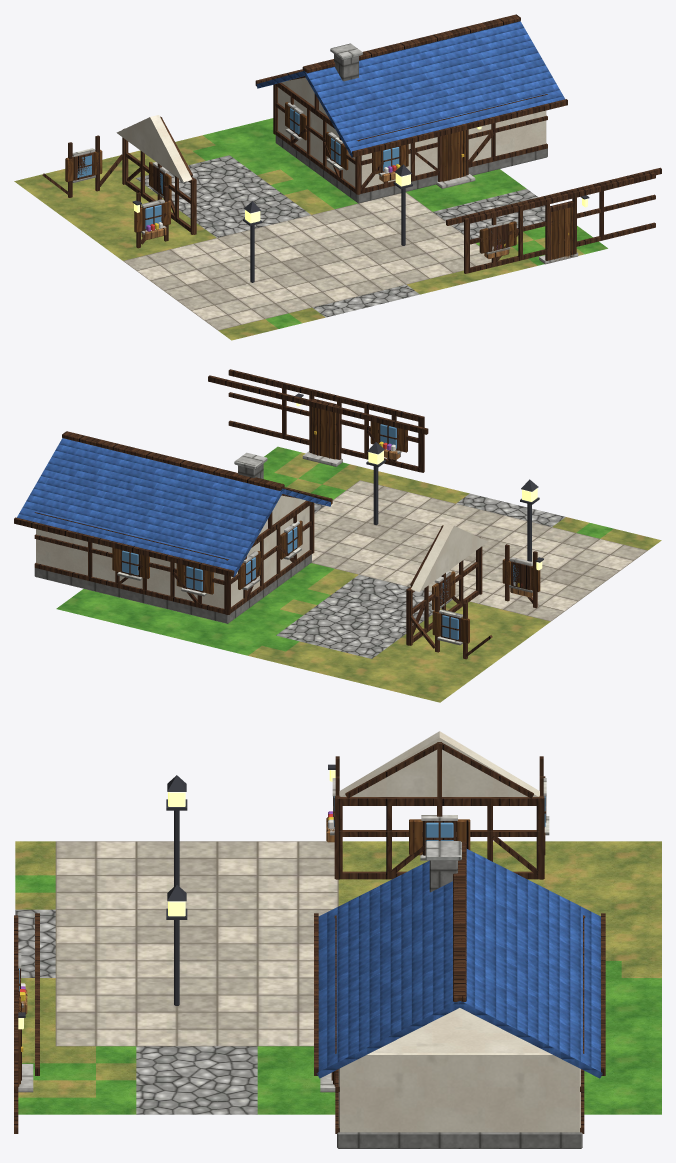
File: chunk_10_5.glb
3 renders of one model, top to bottom at view 1: azimuth 30°, elevation 25°; view 2: azimuth 150°, elevation 25°; view 3: azimuth 270°, elevation 25°, orthographic. The views are drawn at different scales.
Visible parts, largest first — view 1: chunk_10_5; view 2: chunk_10_5; view 3: chunk_10_5.
Part boxes in pixels (bbox=[...]): chunk_10_5: bbox=[14, 14, 661, 340]; chunk_10_5: bbox=[14, 369, 661, 702]; chunk_10_5: bbox=[14, 731, 661, 1148].
Size of the model in its own units: 19.01 by 4.94 by 16.03.
20 materials, 12 textured.
